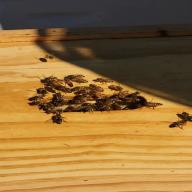Bee: (164, 108, 192, 129), (62, 70, 91, 84), (94, 73, 116, 85), (46, 115, 71, 124), (146, 98, 164, 109), (36, 53, 56, 61)
